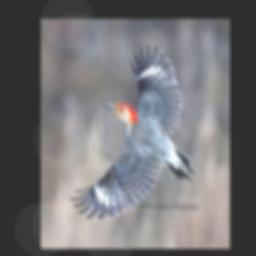Woodpecker: (70, 42, 196, 221)
